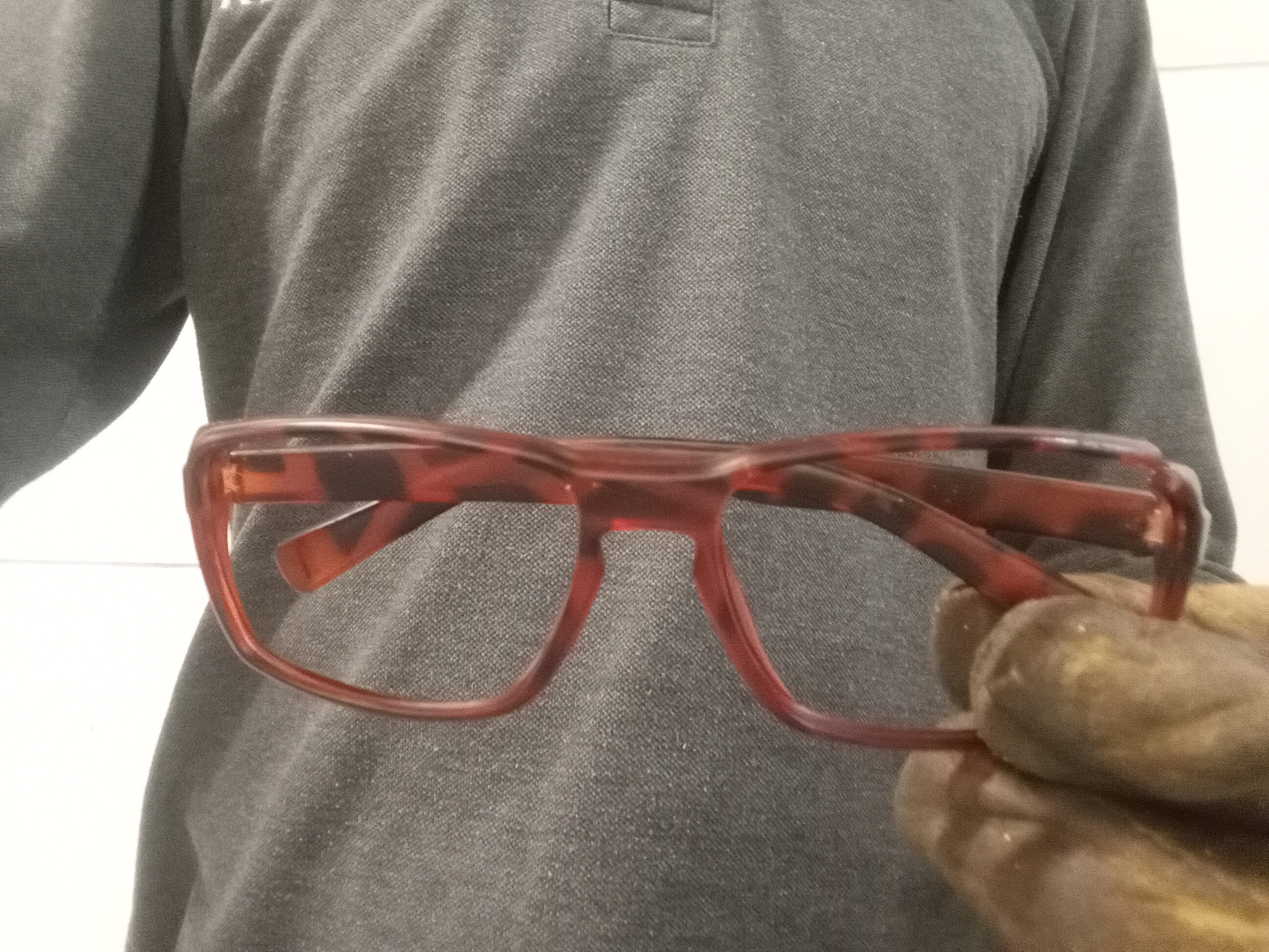Ordinario: (182, 413, 1212, 750)
